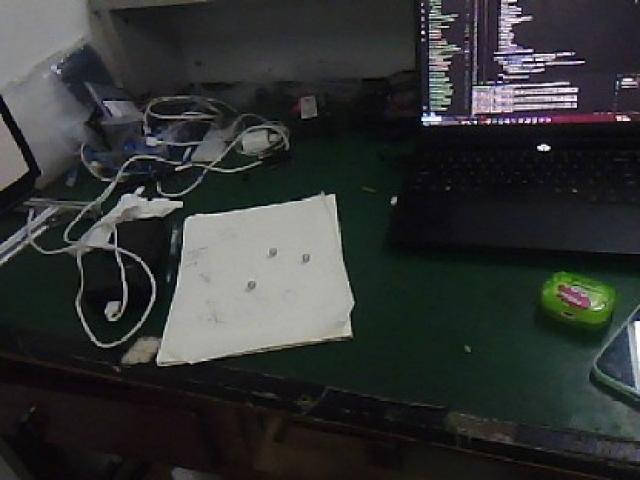steel-ball: (260, 240, 282, 272), (237, 275, 261, 303), (294, 238, 309, 268)
